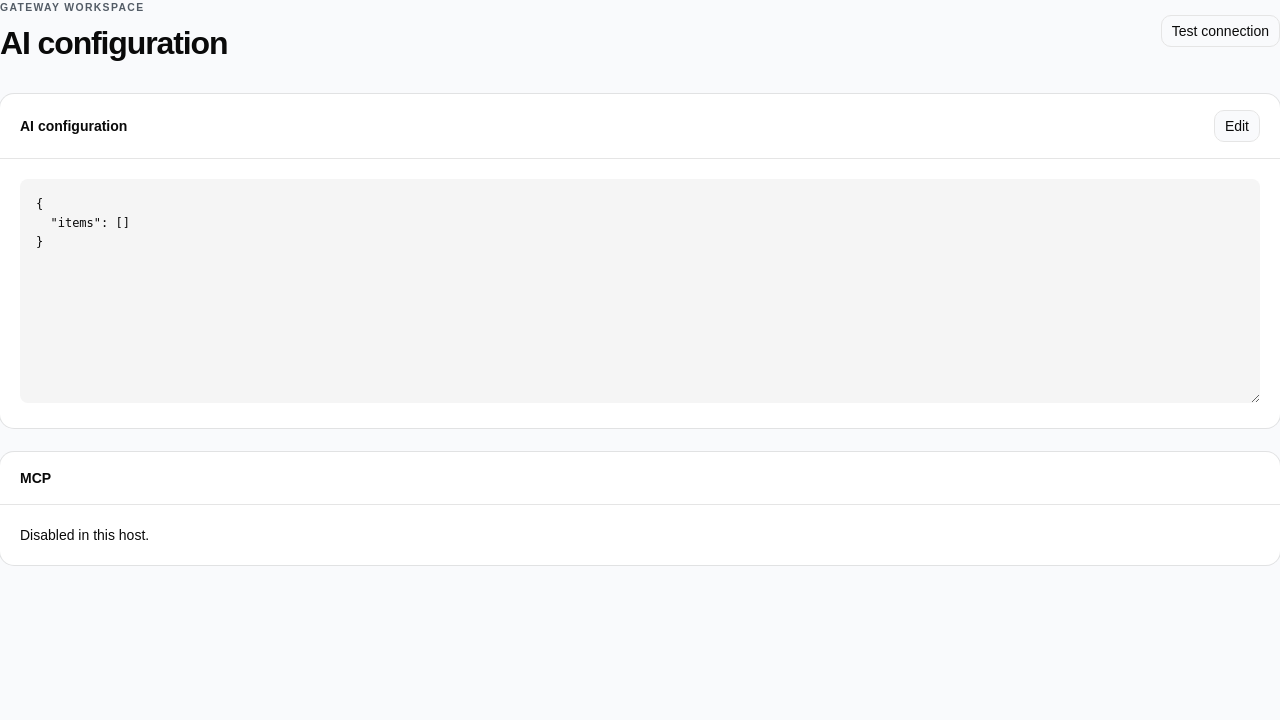
Test case: draft ownership › retains integration settings while failed writes invalidate queries
Click the button "Edit".
click(1237, 126)  # box left=1214, top=110, right=1260, bottom=142
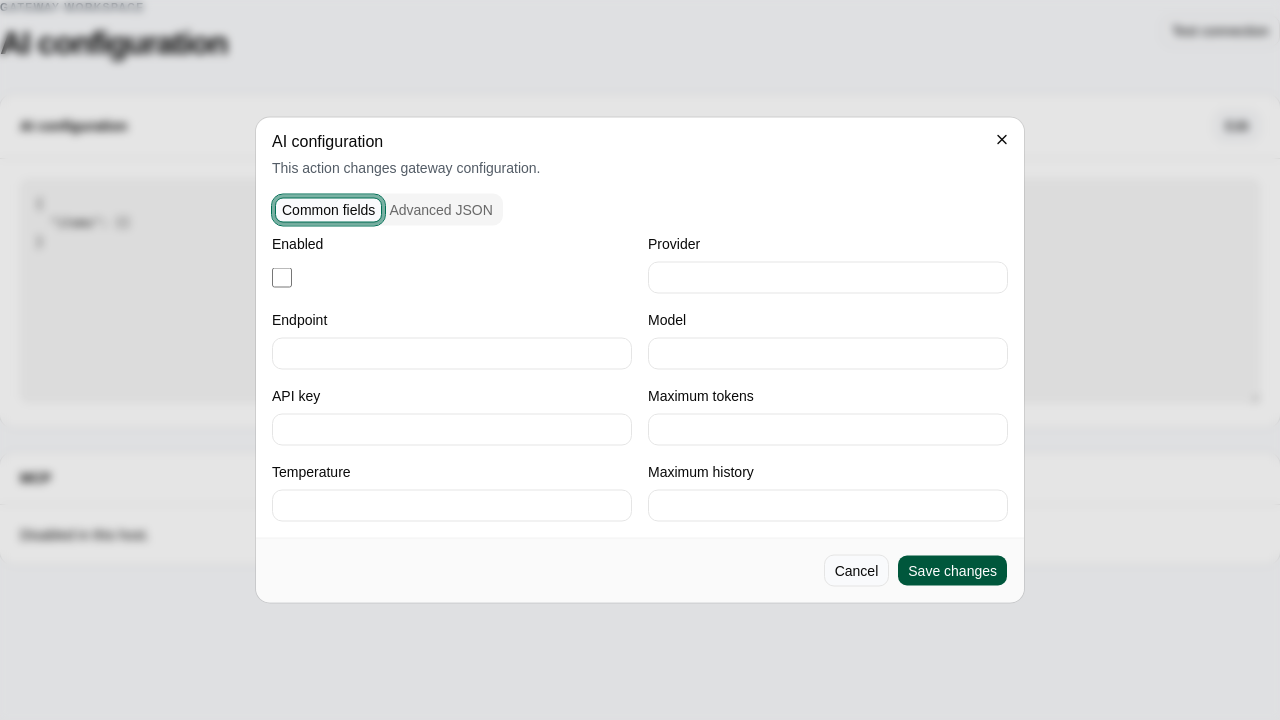
Type "draft-provider" into the field labelled "Provider".
click(828, 278); type("draft-provider")  # box left=648, top=262, right=1008, bottom=294
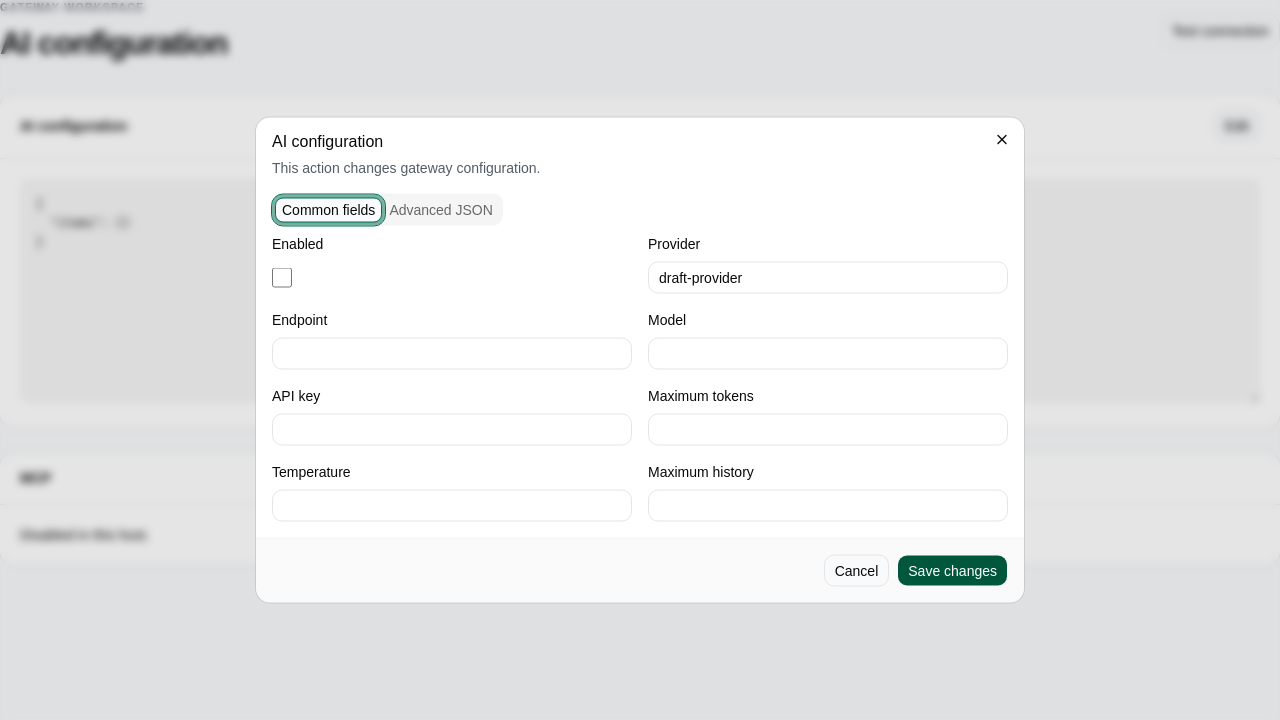
Click the button "Save changes".
click(953, 570)  # box left=897, top=554, right=1008, bottom=586
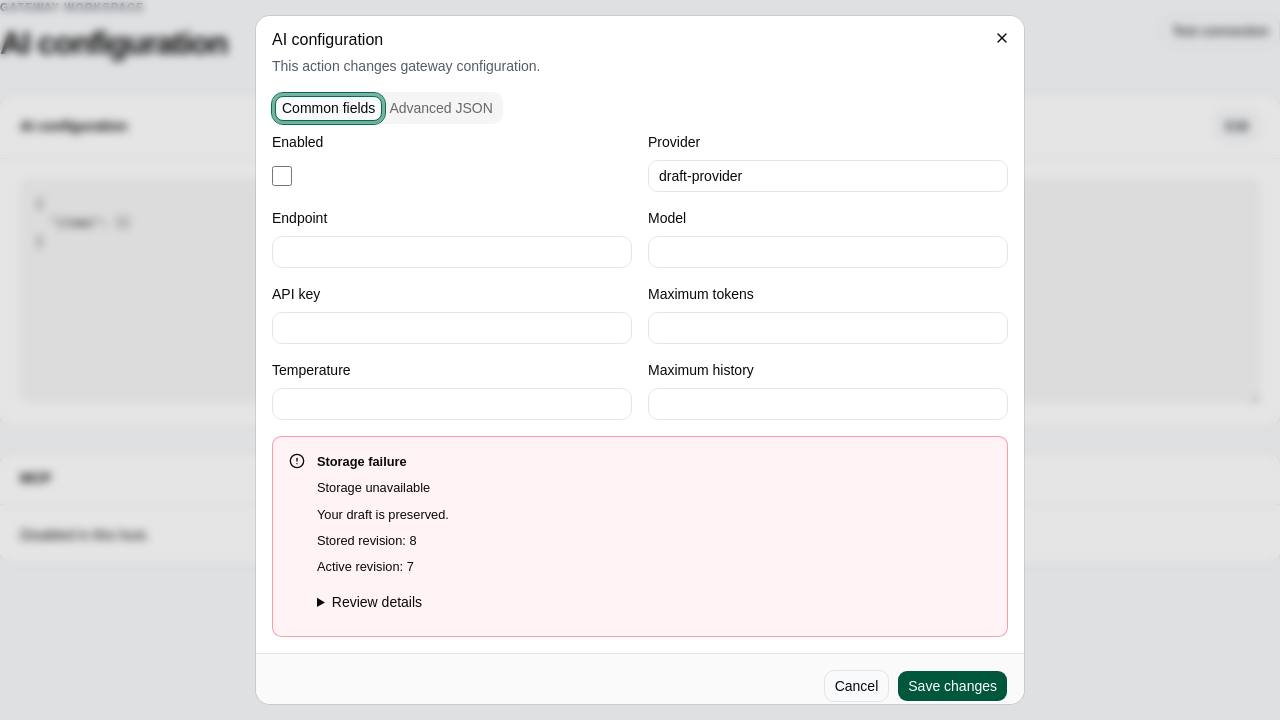
Now the message shows "Storage unavailable", box left=317, top=480, right=430, bottom=495
